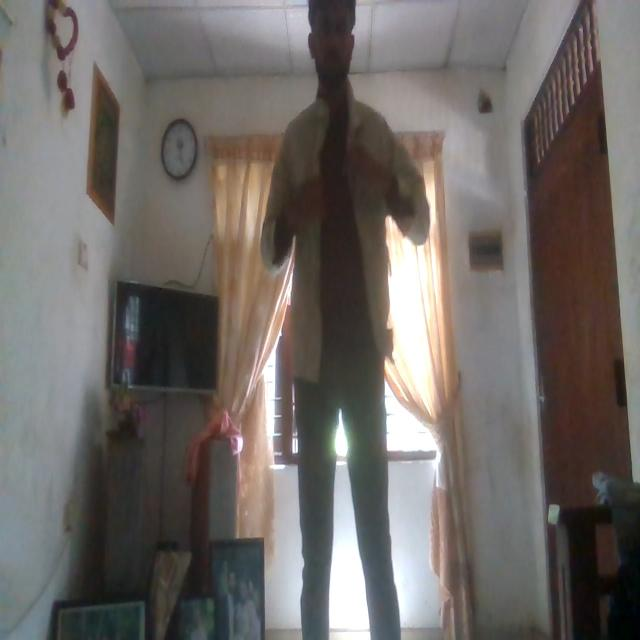Jacket_Wearer: (258, 100, 436, 384)
Person: (266, 0, 424, 640)
